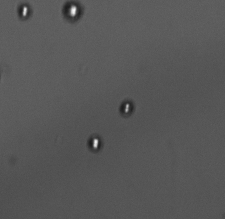Living Cell: (61, 1, 84, 23), (86, 134, 104, 153), (16, 2, 32, 20), (120, 99, 135, 116)
